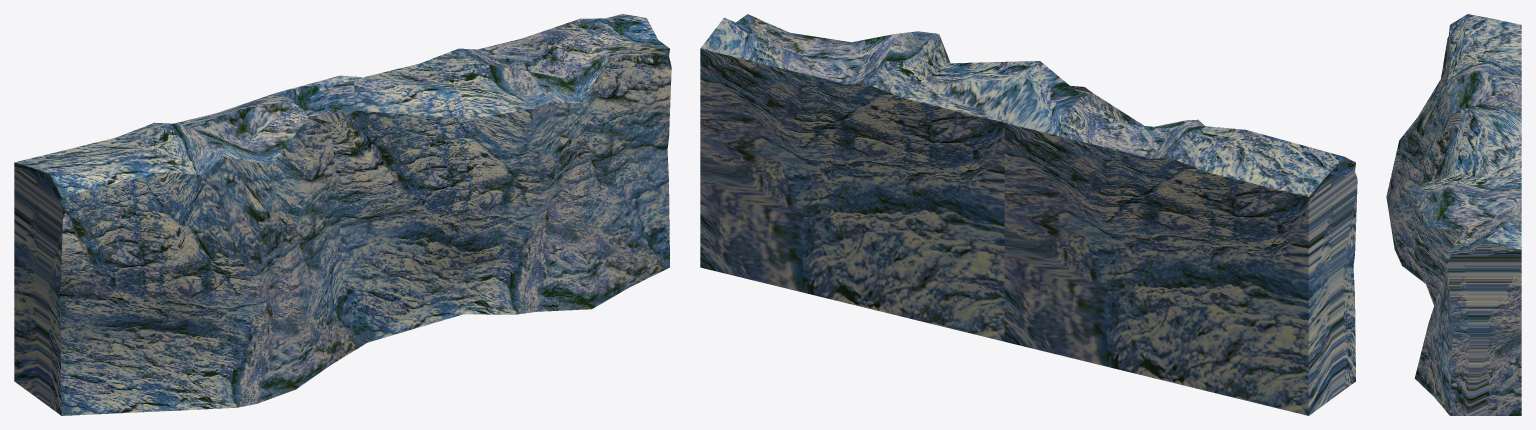
File: rockWall_bulge_04.fbx
3 views of the same model, side by side, from view 1: azimuth 30°, elevation 25°; view 2: azimuth 150°, elevation 25°; view 3: azimuth 270°, elevation 25° (orthographic). The views are drawn at different scales.
Visible parts, largest first — view 1: polySurface1; view 2: polySurface1; view 3: polySurface1.
Part boxes in pixels (bbox=[...]): polySurface1: bbox=[14, 14, 671, 415]; polySurface1: bbox=[700, 14, 1357, 415]; polySurface1: bbox=[1386, 14, 1521, 415].
Size of the model in its own units: 32 by 12.81 by 8.12.
